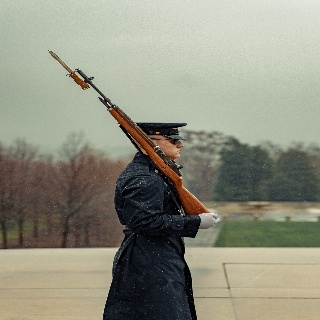rifle: (47, 46, 217, 225)
